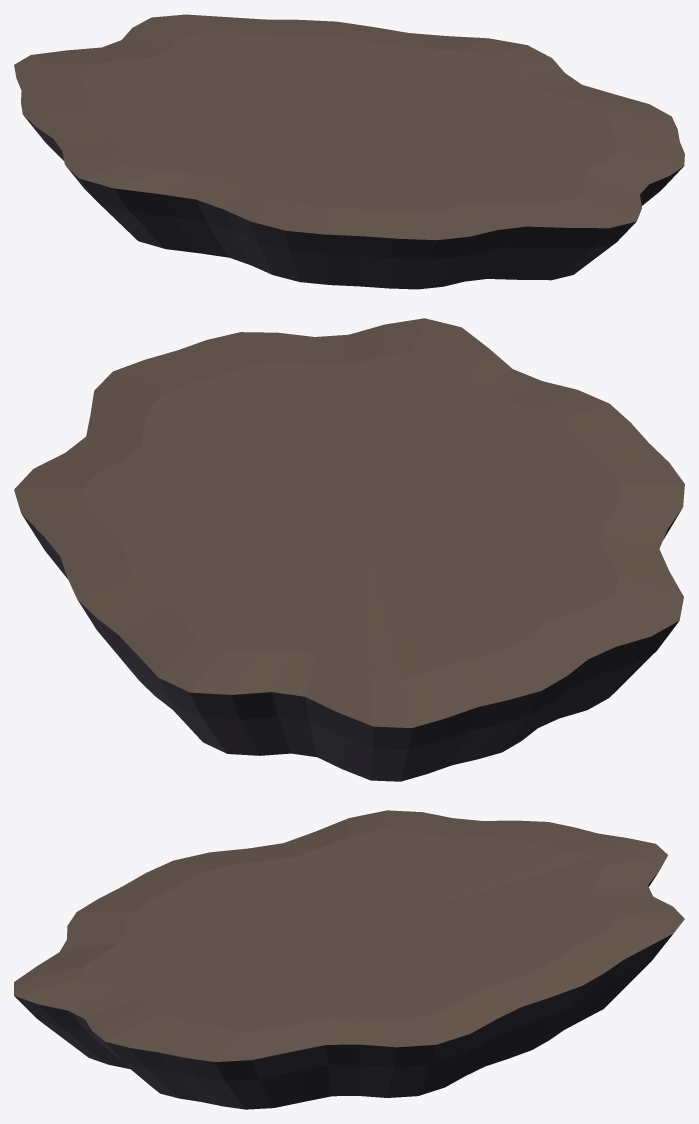
The model's file is Terrain_InfernalCaldera.glb.
3 renders of one model, top to bottom at view 1: azimuth 30°, elevation 25°; view 2: azimuth 150°, elevation 25°; view 3: azimuth 270°, elevation 25°, orthographic. The views are drawn at different scales.
Parts seen in each view (by area): view 1: Terrain_InfernalCaldera_InfernalCaldera_ground_2_-4, Terrain_InfernalCaldera_InfernalCaldera_dark_2_-4; view 2: Terrain_InfernalCaldera_InfernalCaldera_ground_2_-4, Terrain_InfernalCaldera_InfernalCaldera_dark_2_-4; view 3: Terrain_InfernalCaldera_InfernalCaldera_ground_2_-4, Terrain_InfernalCaldera_InfernalCaldera_dark_2_-4.
Part boxes in pixels (box(x1,y1,x2,y2)): Terrain_InfernalCaldera_InfernalCaldera_ground_2_-4: box(14, 14, 684, 240); Terrain_InfernalCaldera_InfernalCaldera_dark_2_-4: box(24, 116, 683, 289); Terrain_InfernalCaldera_InfernalCaldera_ground_2_-4: box(14, 318, 684, 728); Terrain_InfernalCaldera_InfernalCaldera_dark_2_-4: box(22, 509, 681, 781); Terrain_InfernalCaldera_InfernalCaldera_ground_2_-4: box(14, 810, 684, 1061); Terrain_InfernalCaldera_InfernalCaldera_dark_2_-4: box(14, 872, 672, 1109).
Bounding box in the file's own units: 388 × 58 × 437.
